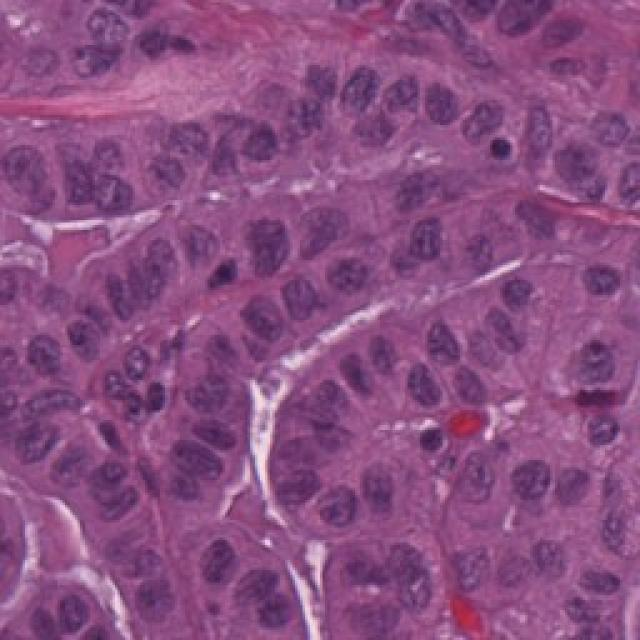abnormal: (556, 314, 640, 405), (144, 426, 247, 497), (295, 459, 380, 544), (63, 147, 153, 223), (231, 186, 303, 276), (228, 552, 300, 640), (32, 575, 129, 640), (383, 529, 450, 623), (126, 217, 187, 319), (105, 552, 181, 631), (3, 125, 64, 219), (286, 187, 361, 262), (492, 444, 560, 523), (223, 283, 293, 359), (5, 404, 70, 484), (61, 34, 131, 105), (183, 533, 244, 612), (417, 64, 469, 155), (556, 242, 630, 303), (398, 210, 458, 282), (453, 213, 519, 278), (11, 322, 73, 389), (303, 470, 363, 539), (583, 84, 640, 156), (322, 239, 392, 297), (325, 50, 381, 122), (411, 314, 467, 386), (514, 88, 564, 168), (272, 270, 330, 330)
